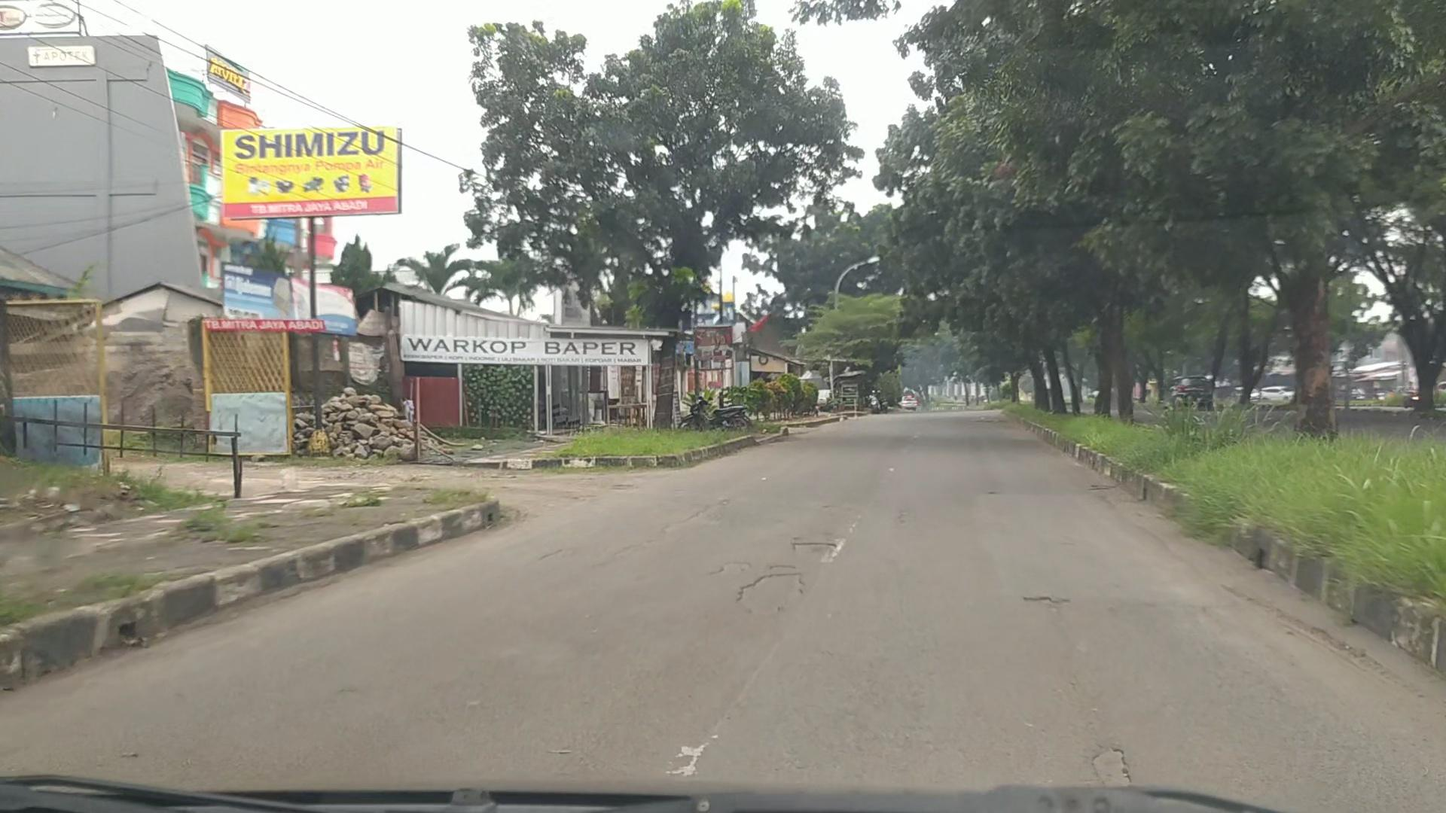pothole: (735, 568, 806, 618), (708, 558, 753, 577), (791, 540, 838, 555), (1021, 595, 1072, 606)
